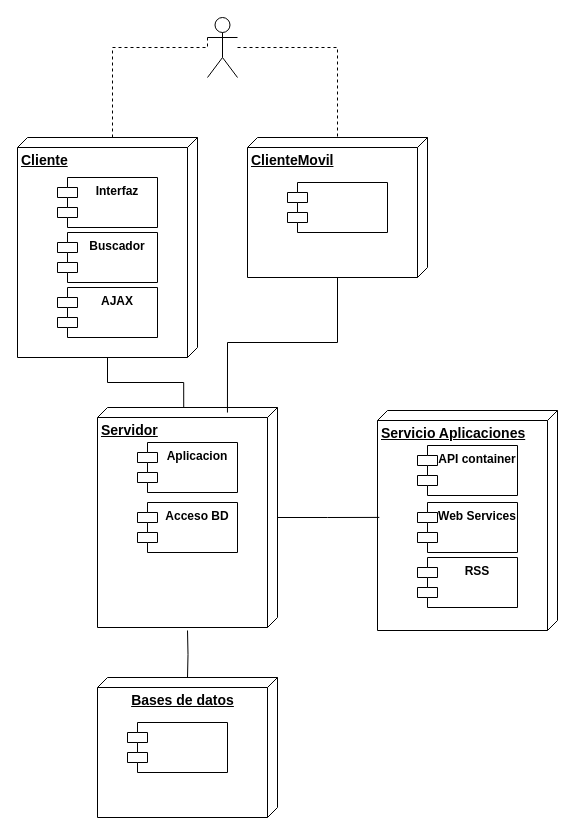
Image size: 575x835. Some labels were removed from this diagram. Each missing label, with the centre of its shape:
"DB" belongs at (x=177, y=747).
"InterfazMovil" belongs at (x=337, y=207).
"User" belongs at (x=222, y=47).
